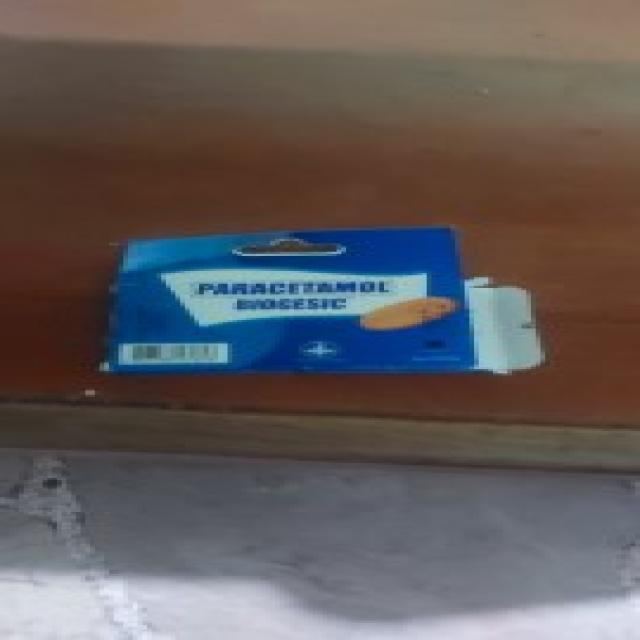Cacat: (104, 222, 550, 379)
Kemasan: (451, 271, 545, 376)
